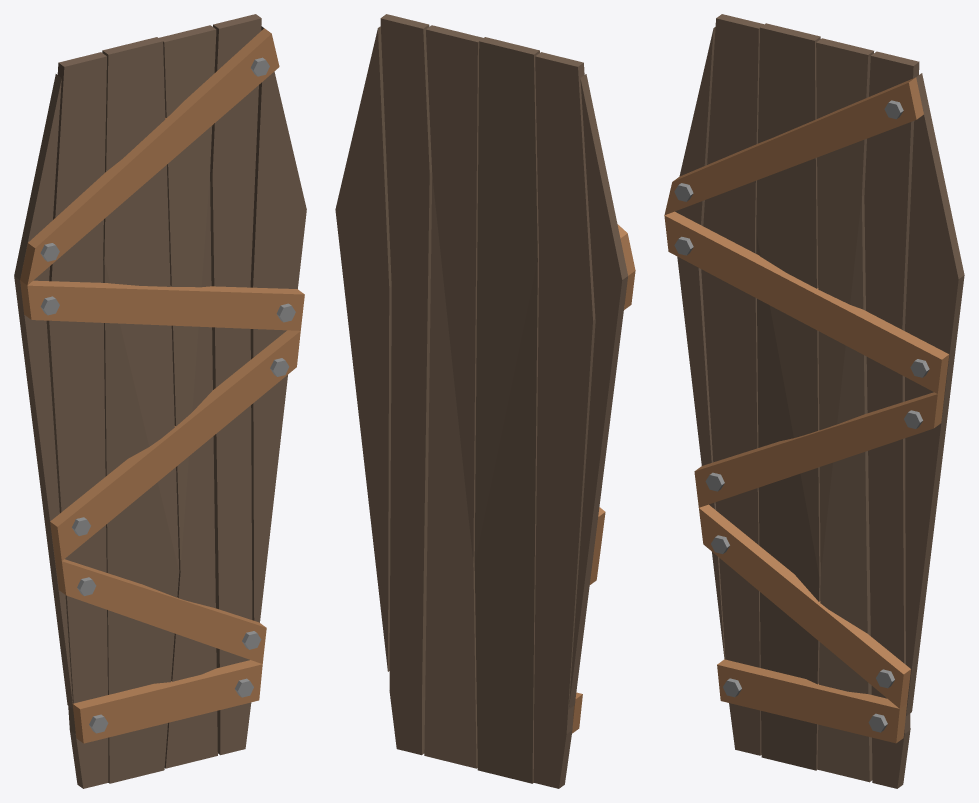
Rendered from Coffin_lid_2.fbx.
3 renders of one model, left to right at view 1: azimuth 30°, elevation 25°; view 2: azimuth 150°, elevation 25°; view 3: azimuth 330°, elevation 25°, orthographic.
Parts seen in each view (by area): view 1: Coffin_lid_2; view 2: Coffin_lid_2; view 3: Coffin_lid_2.
Part boxes in pixels (x1=…): Coffin_lid_2: x1=14, y1=14, x2=306, y2=788; Coffin_lid_2: x1=335, y1=14, x2=635, y2=788; Coffin_lid_2: x1=664, y1=14, x2=964, y2=788.
Size of the model in its own units: 83.93 by 8.36 by 204.
